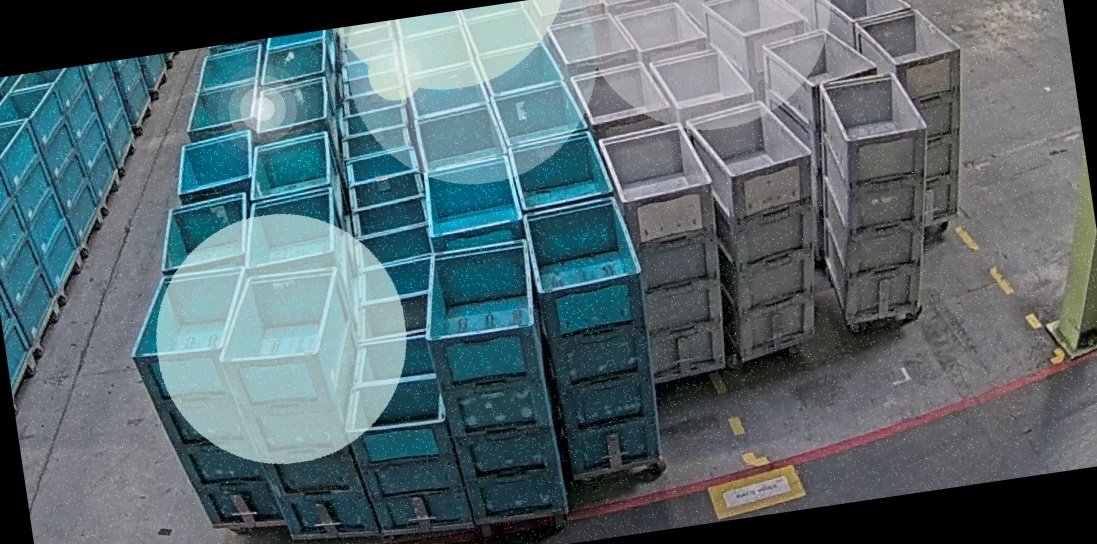4G: (683, 93, 841, 363), (797, 67, 954, 323), (597, 118, 740, 383), (851, 2, 985, 228)
B4: (206, 259, 387, 544), (117, 263, 285, 542), (412, 237, 569, 530), (519, 192, 671, 477)
B8: (331, 329, 479, 542)
